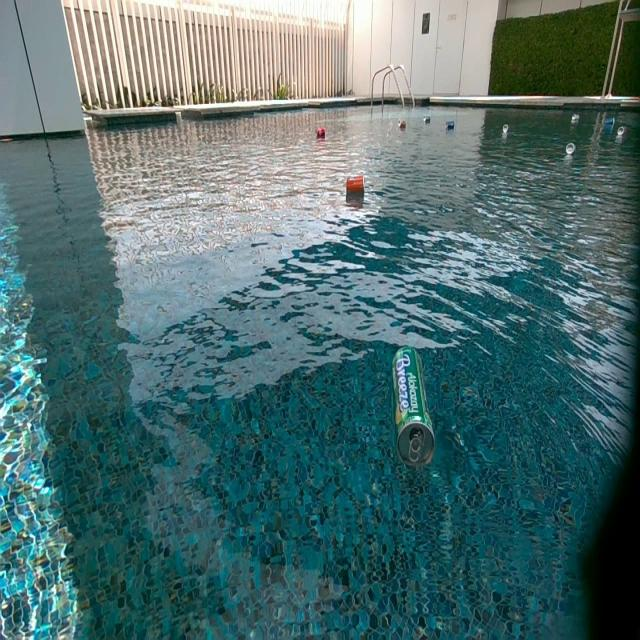Cans: (394, 343, 439, 469), (346, 174, 364, 192), (316, 127, 326, 140), (565, 142, 575, 155), (603, 118, 615, 128), (446, 119, 456, 130), (618, 128, 628, 139), (570, 114, 580, 124), (397, 119, 406, 130), (424, 116, 434, 124), (501, 122, 508, 131)
